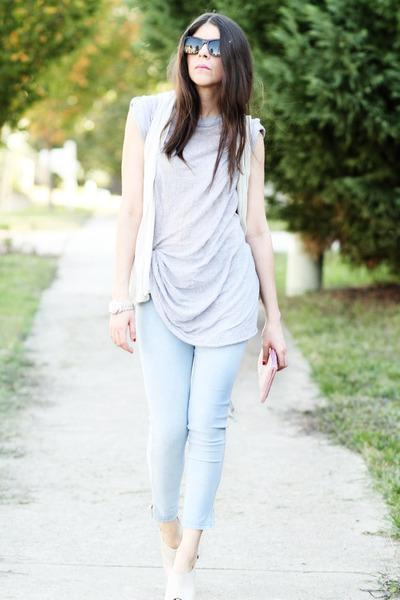short sleeve shirt: (121, 92, 277, 348)
trousers: (132, 290, 243, 532)
